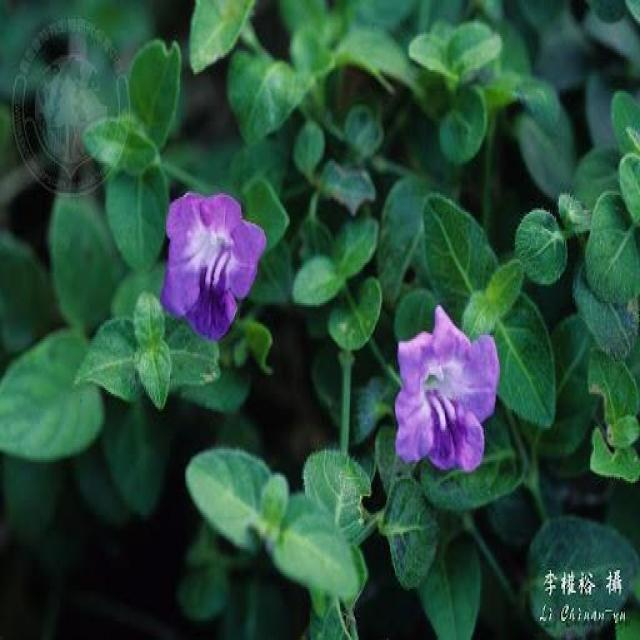organic waste: (380, 304, 506, 474), (160, 182, 266, 342)
